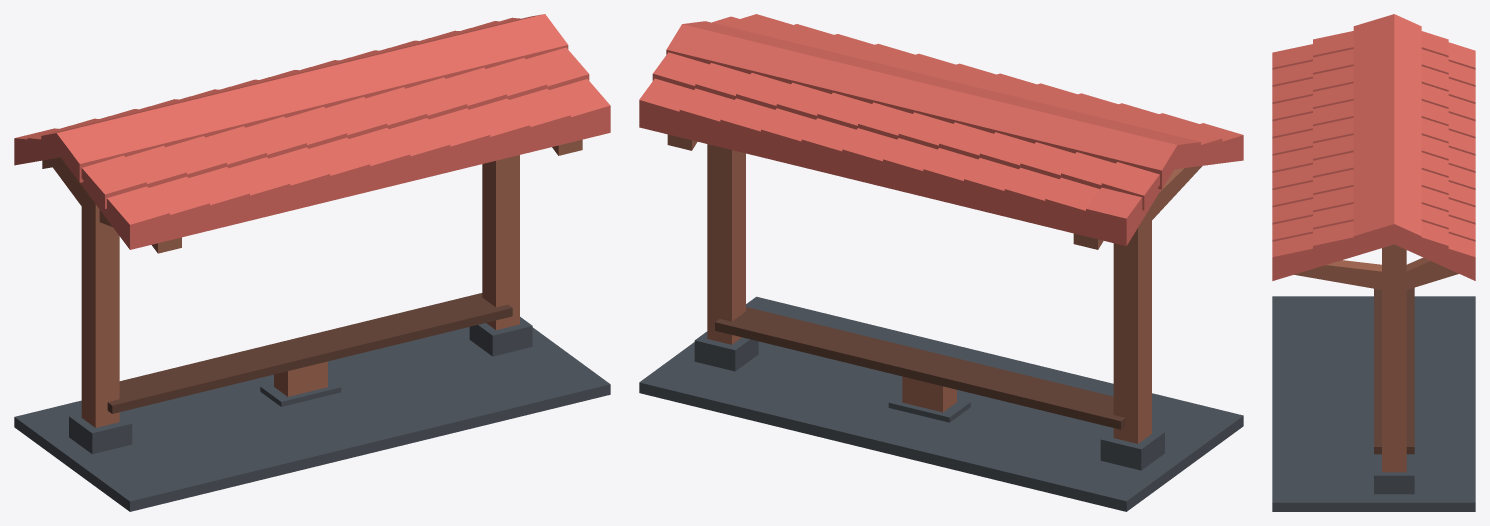
The model's file is Waiting-shed(With-texture).fbx.
The picture shows the model from 3 angles, left to right: view 1: azimuth 30°, elevation 25°; view 2: azimuth 150°, elevation 25°; view 3: azimuth 270°, elevation 25°; orthographic projection. The views are drawn at different scales.
Parts seen in each view (by area): view 1: Shed; view 2: Shed; view 3: Shed.
Boxes of the visible parts, x1,y1,x2,y2 form: Shed: (14,14,610,511); Shed: (639,14,1243,511); Shed: (1272,14,1475,511).
Bounding box in the file's own units: 1220 × 785 × 500.
